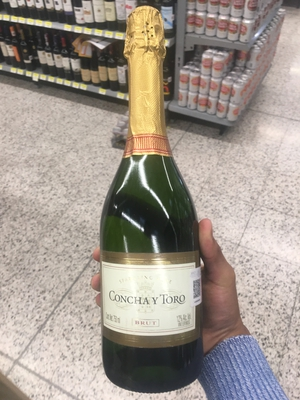brut: (90, 17, 218, 376)
